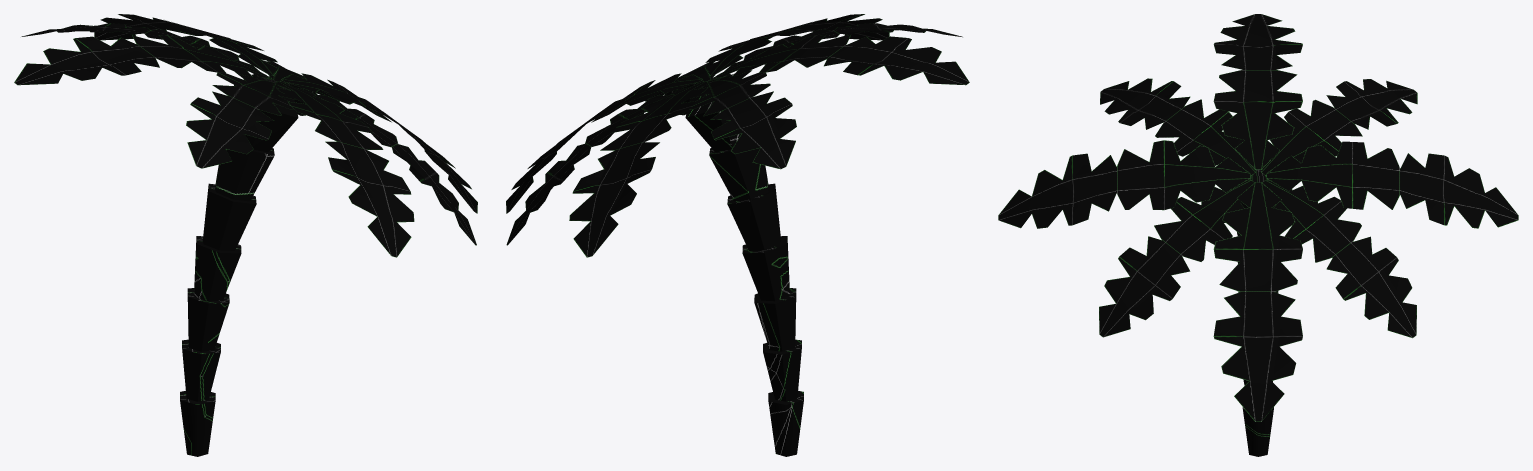
Rendered from NewPalm.FBX.
The picture shows the model from 3 angles, left to right: view 1: azimuth 30°, elevation 25°; view 2: azimuth 150°, elevation 25°; view 3: azimuth 270°, elevation 25°; orthographic projection. The views are drawn at different scales.
Parts seen in each view (by area): view 1: Base; view 2: Base; view 3: Base.
Part boxes in pixels (x1,y1,x2,y2): Base: (14,14,477,456); Base: (506,14,969,456); Base: (998,14,1518,456).
Size of the model in its own units: 103 by 90.07 by 116.
